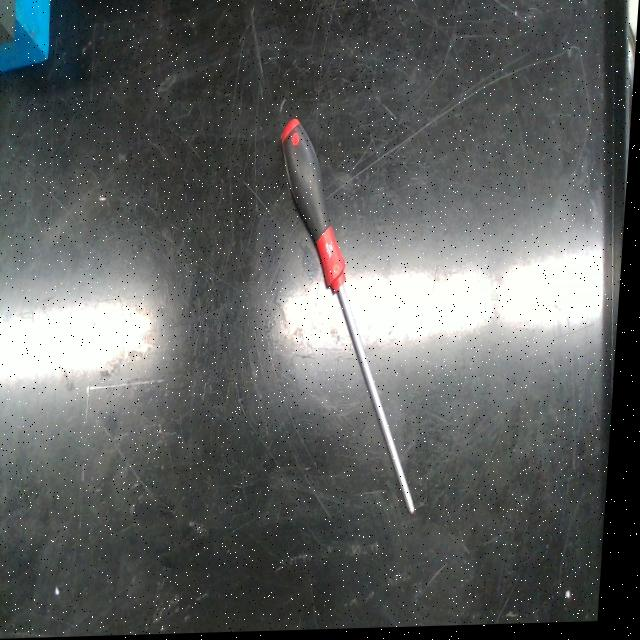Screwdriver: (283, 120, 422, 516)
